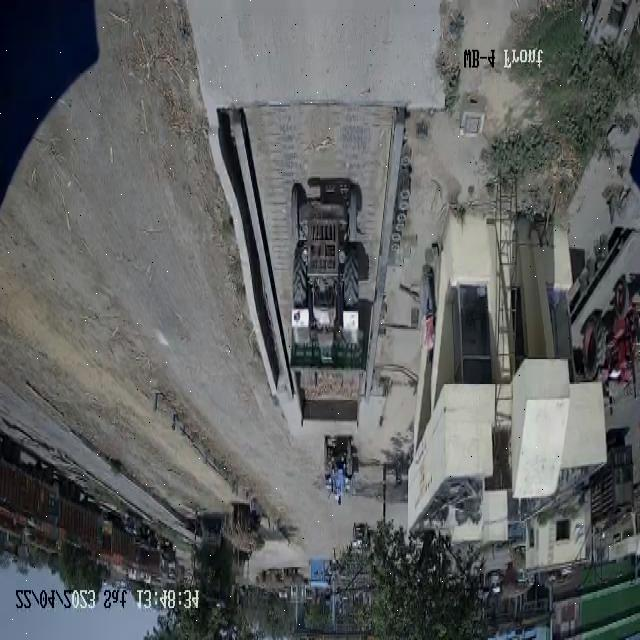Tratores - v5 YOLO V8L 2024-11-13: (282, 172, 368, 357), (581, 258, 640, 404), (322, 438, 358, 496)
